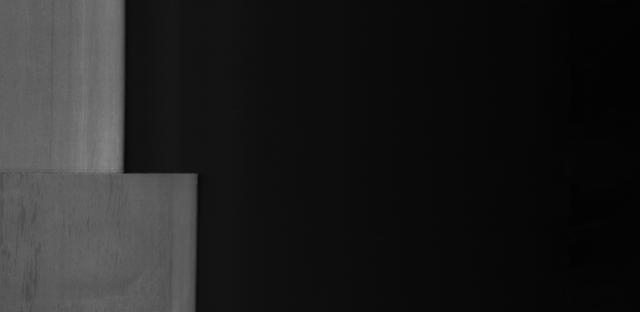welding_line: (3, 159, 217, 184)
